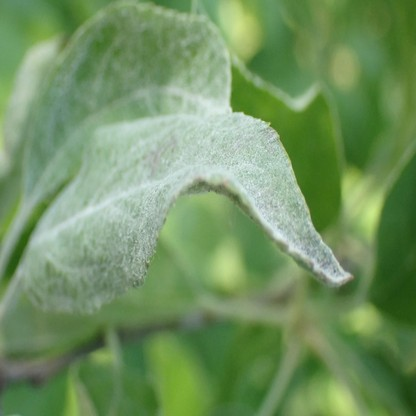powdery_mildew: (22, 114, 354, 311), (5, 0, 234, 111)
